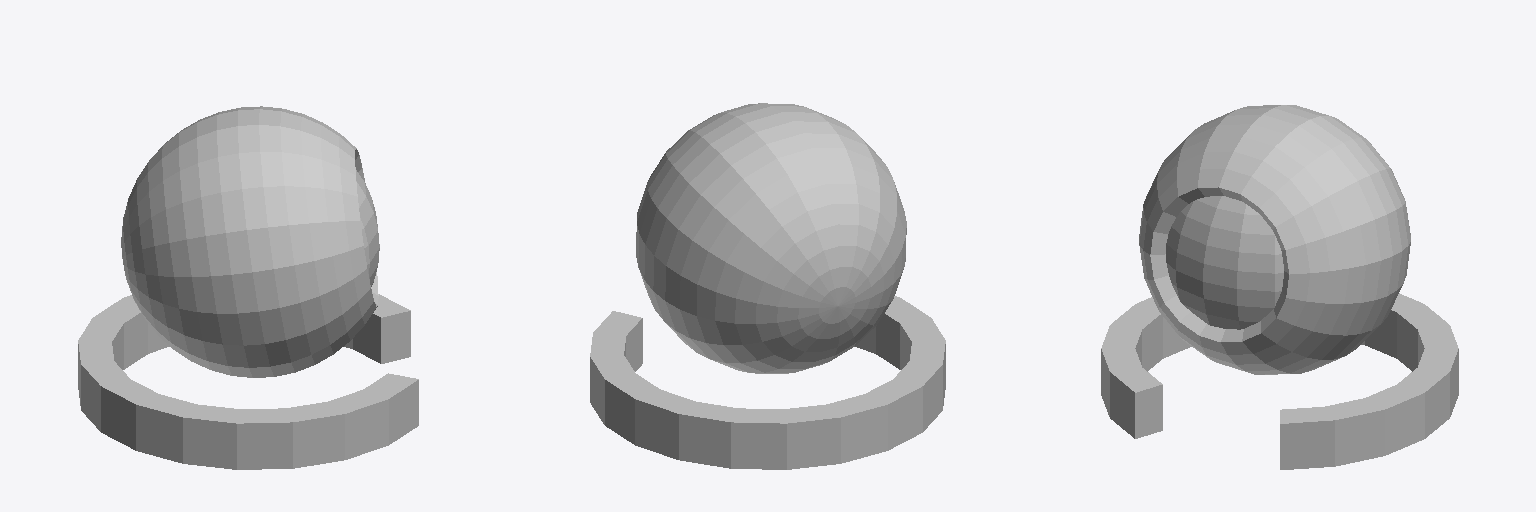
File: shaderball_lowpoly_01_tris.obj
The picture shows the model from 3 angles: view 1: azimuth 30°, elevation 25°; view 2: azimuth 150°, elevation 25°; view 3: azimuth 270°, elevation 25°; orthographic projection.
Parts seen in each view (by area): view 1: pSphere2, pPipe1, pSphere1; view 2: pSphere2, pPipe1; view 3: pSphere2, pPipe1, pSphere1.
Part boxes in pixels (left/top/right/bottom): pSphere2: left=121, top=106, right=378, bottom=377; pPipe1: left=78, top=294, right=418, bottom=469; pSphere1: left=356, top=170, right=379, bottom=286; pSphere2: left=636, top=103, right=906, bottom=373; pPipe1: left=590, top=296, right=945, bottom=469; pSphere2: left=1139, top=105, right=1410, bottom=374; pPipe1: left=1101, top=293, right=1458, bottom=469; pSphere1: left=1166, top=196, right=1283, bottom=329.
Bounding box in the file's own units: 5.24 × 4.49 × 5.24.